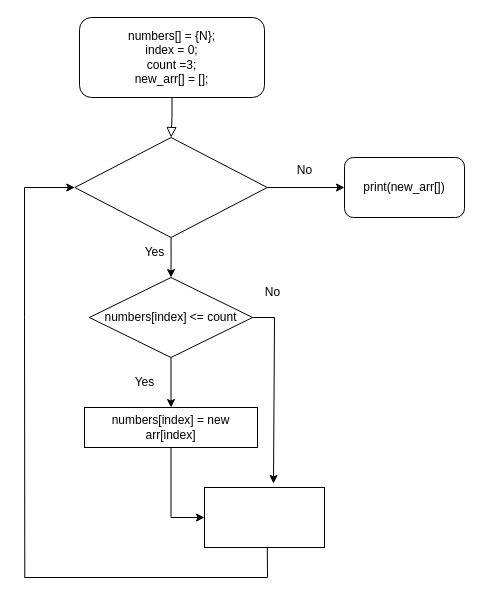
The diagram is 482 pixels wide and 596 high, and some of its shapes have lost their labels. The shapes that lost their labels are listed below. From the top down, each one's centre as x and y in pixels, then its label:
At point (170, 187): "index < N".
At point (264, 517): "index = index +1".
